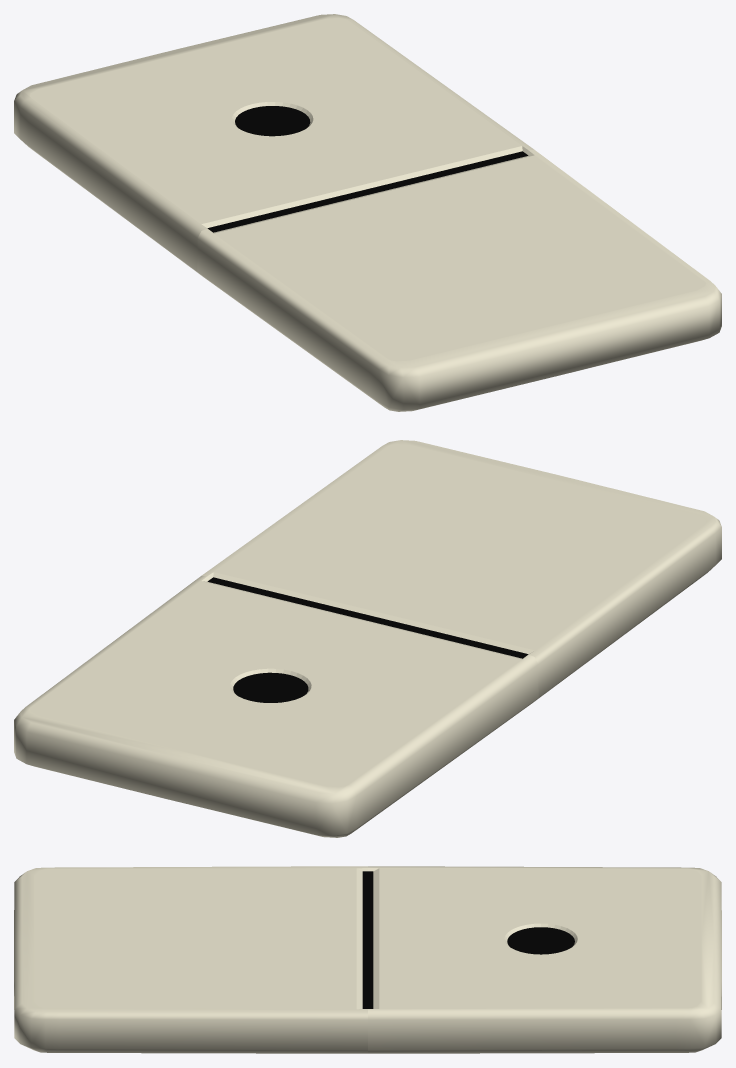
File: Domino_0_1.glb
The picture shows the model from 3 angles, top to bottom: view 1: azimuth 30°, elevation 25°; view 2: azimuth 150°, elevation 25°; view 3: azimuth 270°, elevation 25°; orthographic projection. The views are drawn at different scales.
Visible parts, largest first — view 1: Domino_0_1_A.001, Domino_0_1_B.001; view 2: Domino_0_1_B.001, Domino_0_1_A.001; view 3: Domino_0_1_A.001, Domino_0_1_B.001.
Boxes of the visible parts, bbox=[...] form: Domino_0_1_A.001: bbox=[197, 149, 721, 411]; Domino_0_1_B.001: bbox=[14, 14, 533, 276]; Domino_0_1_B.001: bbox=[14, 575, 538, 837]; Domino_0_1_A.001: bbox=[202, 440, 721, 702]; Domino_0_1_A.001: bbox=[14, 866, 367, 1053]; Domino_0_1_B.001: bbox=[368, 866, 721, 1053].
Size of the model in its own units: 0.7725 by 0.105 by 1.54.
